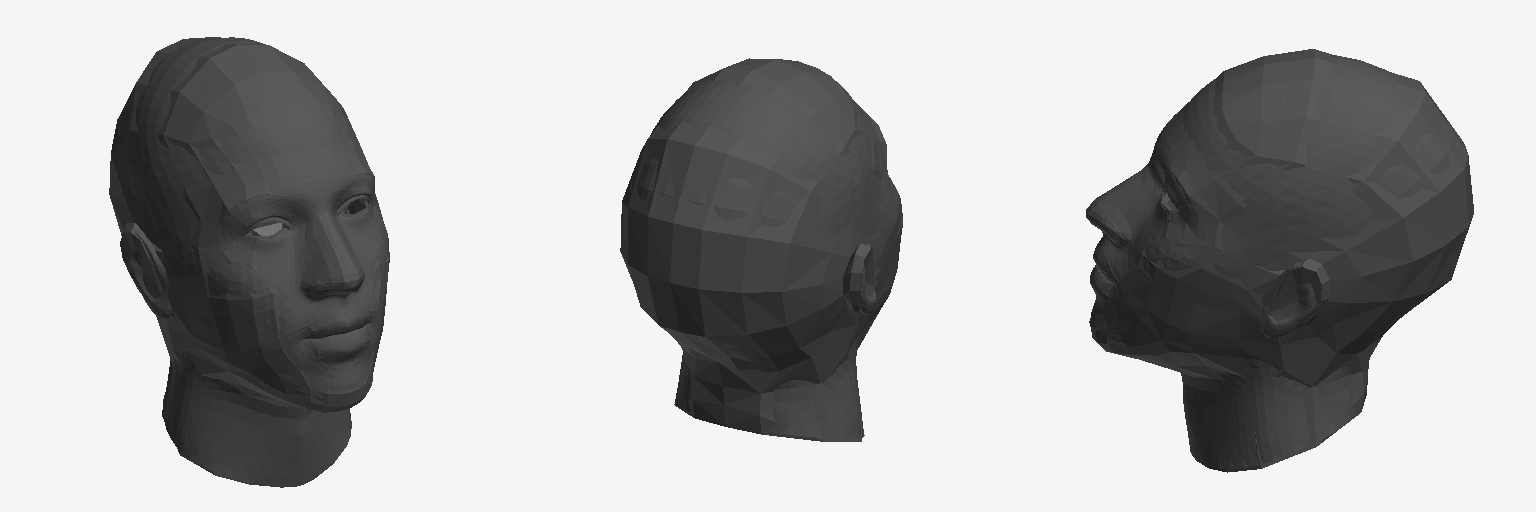
The picture shows the model from 3 angles: view 1: azimuth 30°, elevation 25°; view 2: azimuth 150°, elevation 25°; view 3: azimuth 270°, elevation 25°; orthographic projection.
Visible parts, largest first — view 1: skin_hi, skin_lo; view 2: skin_lo, skin_hi; view 3: skin_lo, skin_hi.
Part boxes in pixels (left/top/right/bottom): skin_hi: left=119, top=37, right=388, bottom=484; skin_lo: left=109, top=37, right=389, bottom=487; skin_lo: left=620, top=58, right=902, bottom=441; skin_hi: left=630, top=79, right=901, bottom=438; skin_lo: left=1086, top=49, right=1473, bottom=472; skin_hi: left=1090, top=55, right=1453, bottom=468.
Size of the model in its own units: 14.94 by 24.46 by 21.75.